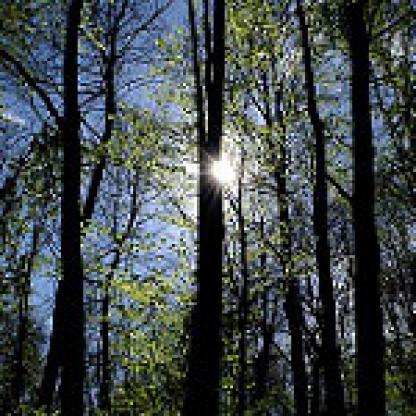tree: (31, 0, 174, 405), (230, 0, 319, 413), (92, 114, 188, 413), (0, 119, 61, 410)
trunk: (346, 3, 386, 413), (192, 3, 228, 413), (311, 114, 344, 413), (61, 3, 83, 410), (236, 150, 252, 413)
